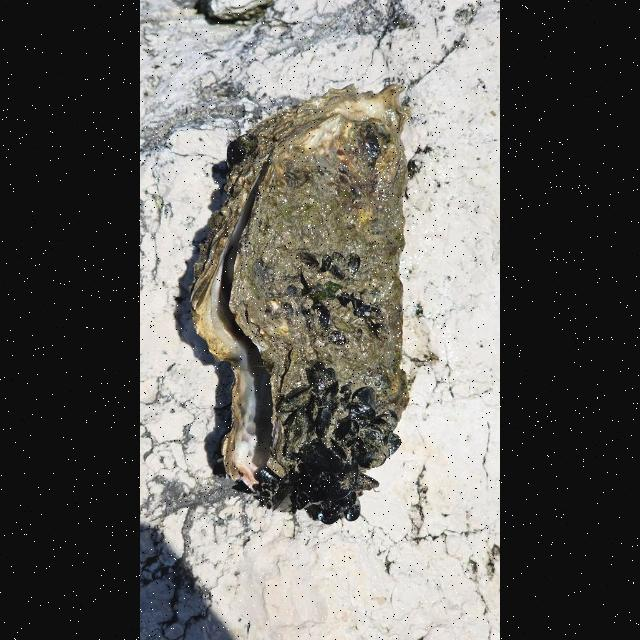Oyster-Open: (189, 82, 413, 524)
